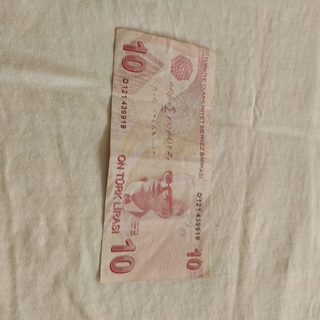10TLBack: (98, 25, 214, 285)
